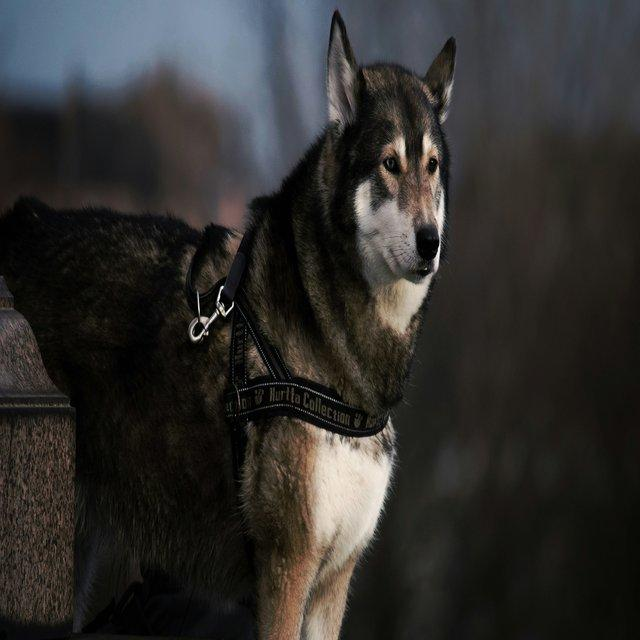husky: (0, 7, 457, 638)
